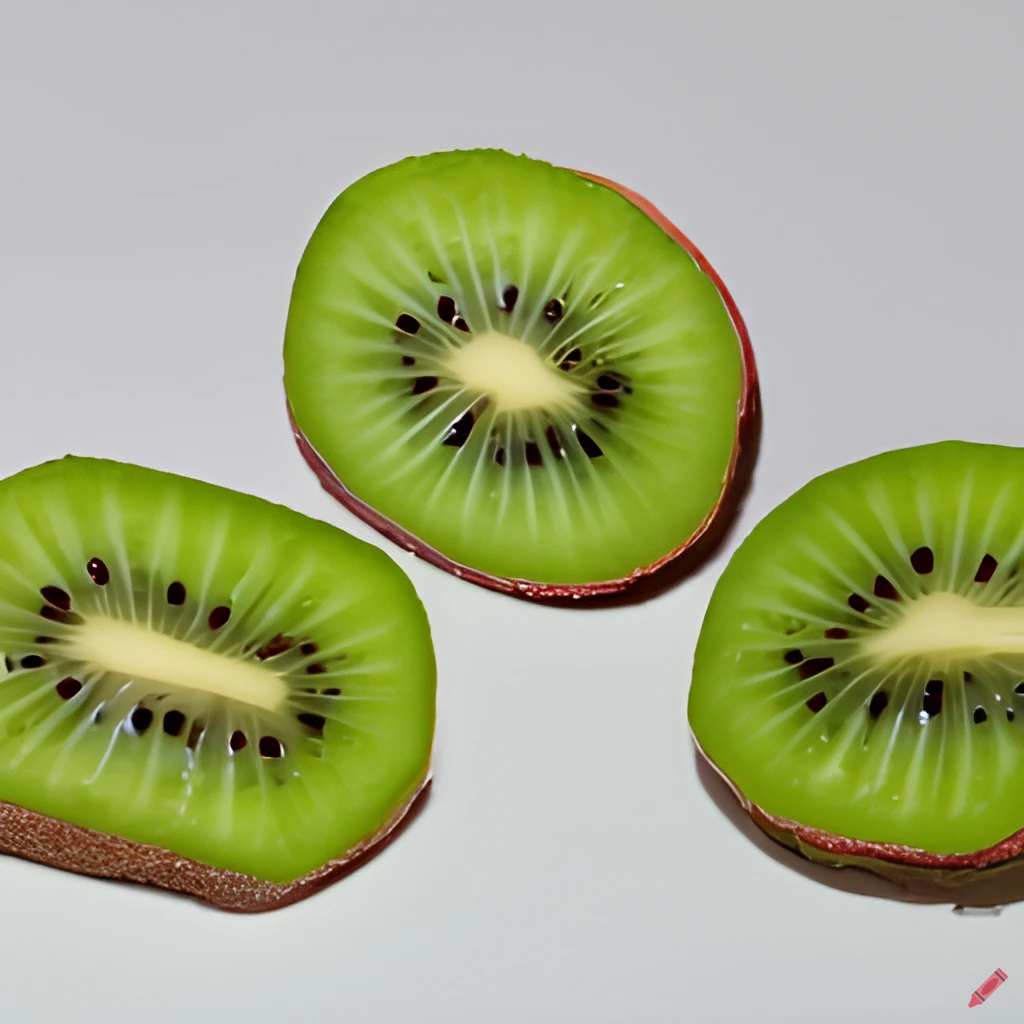Kiwi: (0, 424, 462, 962)
